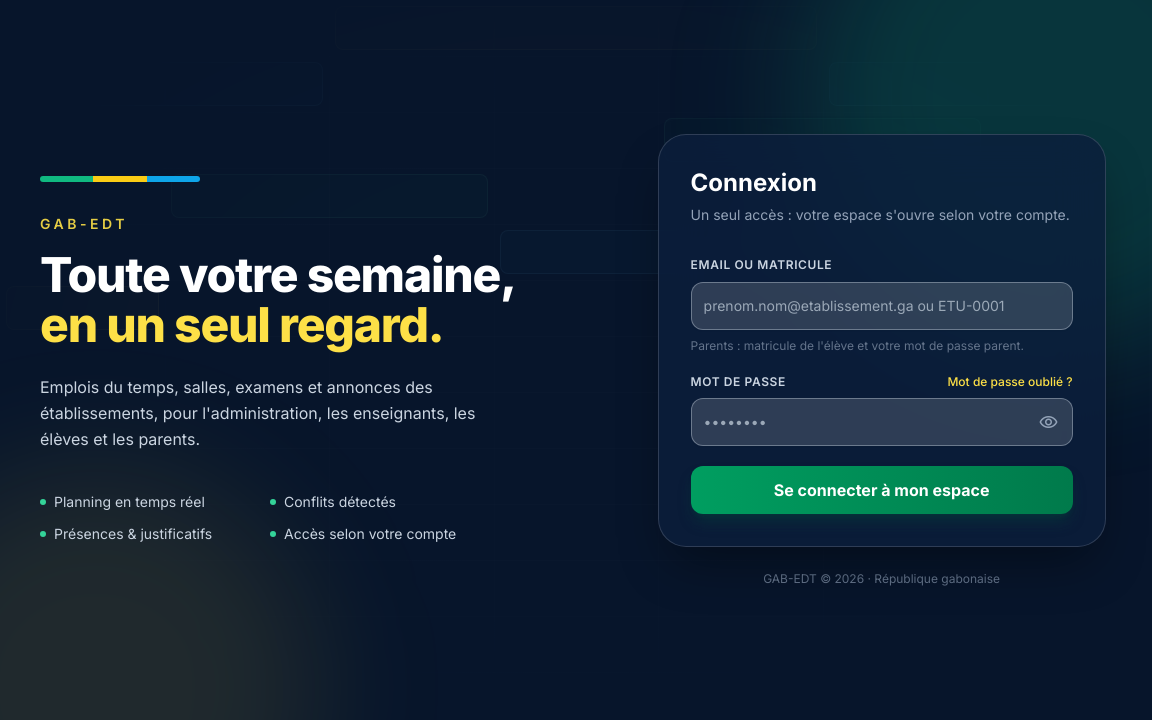
Scenario: LoginPage › shows the server error message
Type "admin@ecole.com" into the field labelled "Email ou matricule" at (882, 306), box [691,282,1073,330]
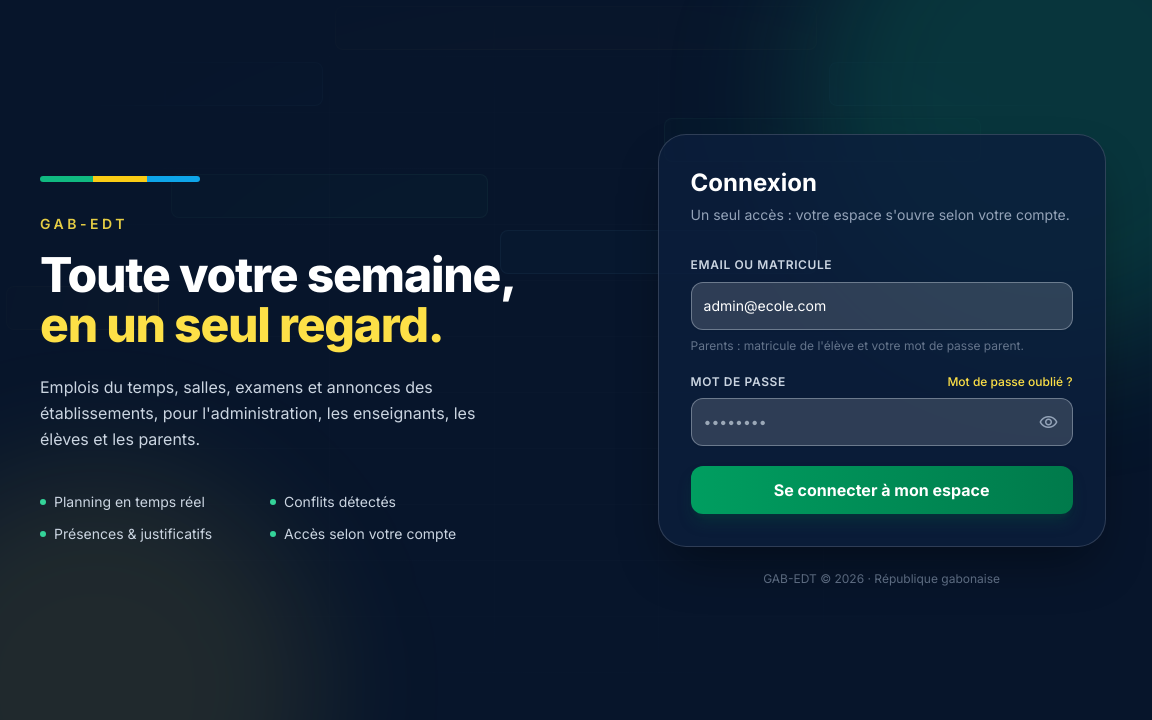
Type "secret" into the password field with placeholder "••••••••" at (882, 422), box [691,398,1073,446]
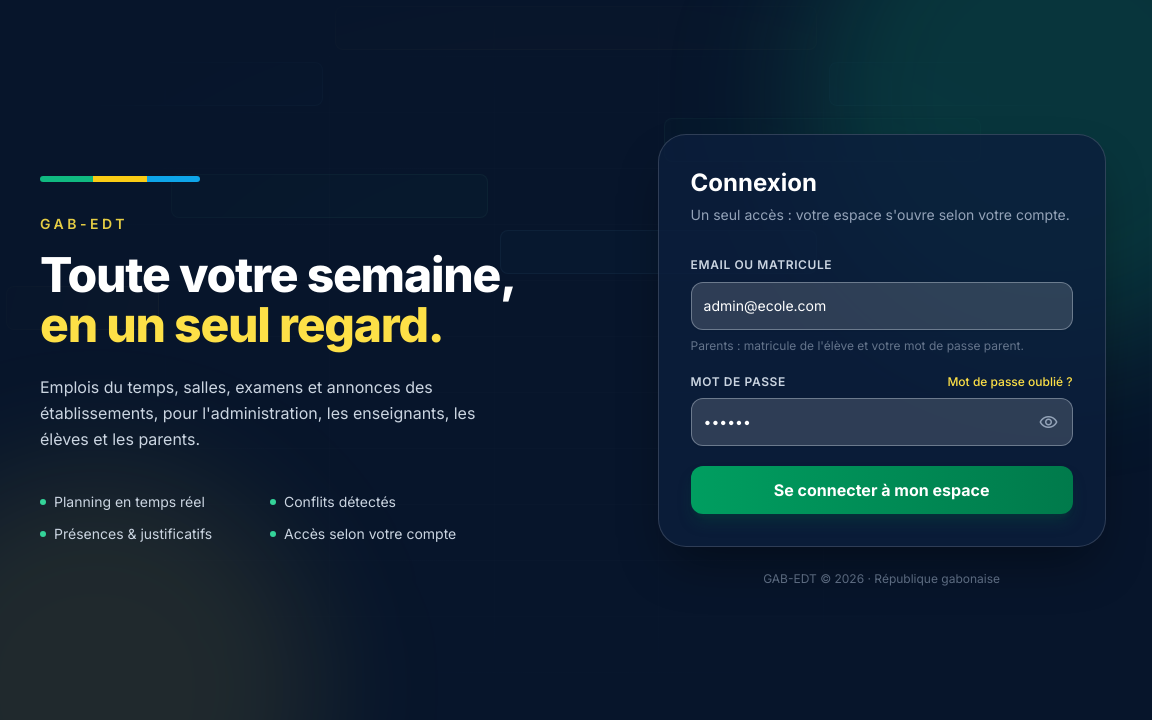
Click the button "Se connecter à mon espace" at (882, 490), box [691,466,1073,514]
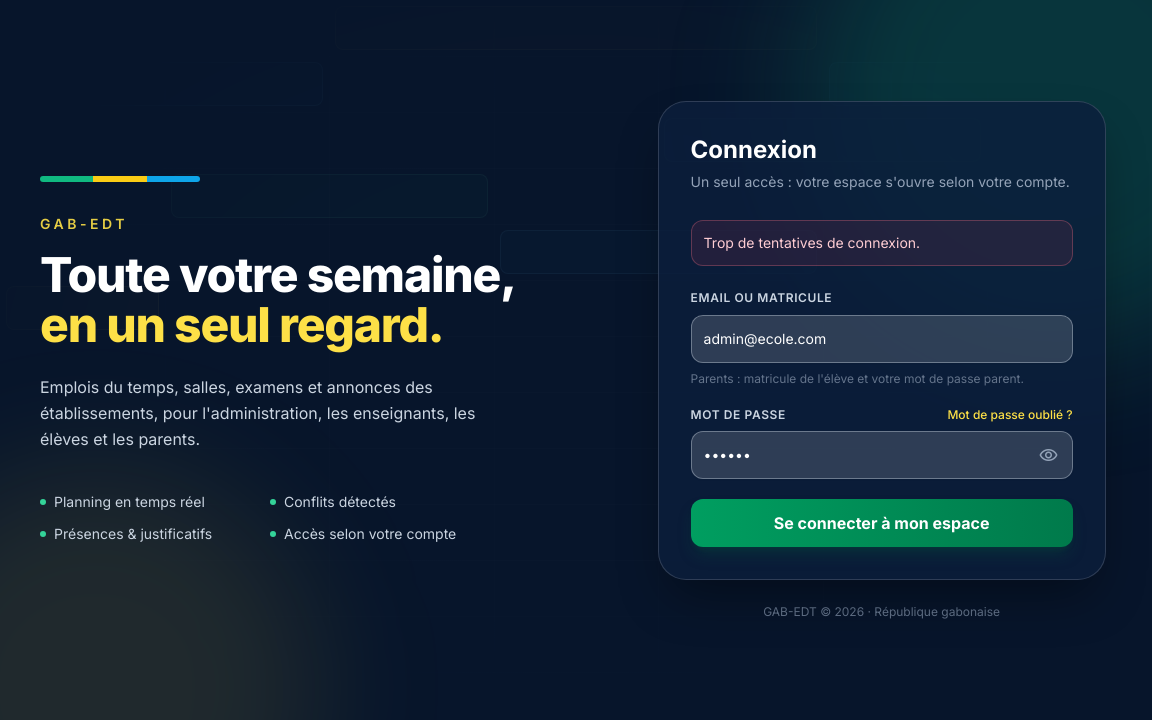
Now the message reads "Trop de tentatives de connexion.", box [704,234,920,250]
